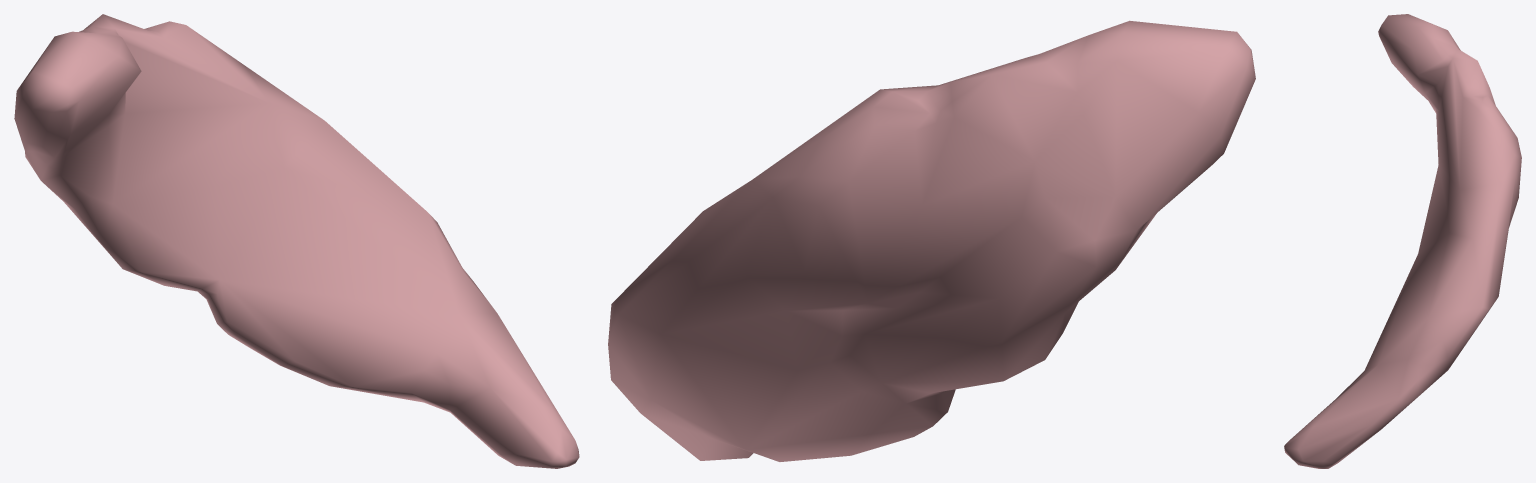
3 renders of one model, left to right at view 1: azimuth 30°, elevation 25°; view 2: azimuth 150°, elevation 25°; view 3: azimuth 270°, elevation 25°, orthographic. The views are drawn at different scales.
Parts seen in each view (by area): view 1: ZA_35d0f49c473b179f; view 2: ZA_35d0f49c473b179f; view 3: ZA_35d0f49c473b179f.
Boxes of the visible parts, x1=… form: ZA_35d0f49c473b179f: x1=14, y1=14, x2=579, y2=468; ZA_35d0f49c473b179f: x1=608, y1=20, x2=1255, y2=461; ZA_35d0f49c473b179f: x1=1284, y1=14, x2=1521, y2=468.
Bounding box in the file's own units: 0.0329 × 0.0306 × 0.021.
